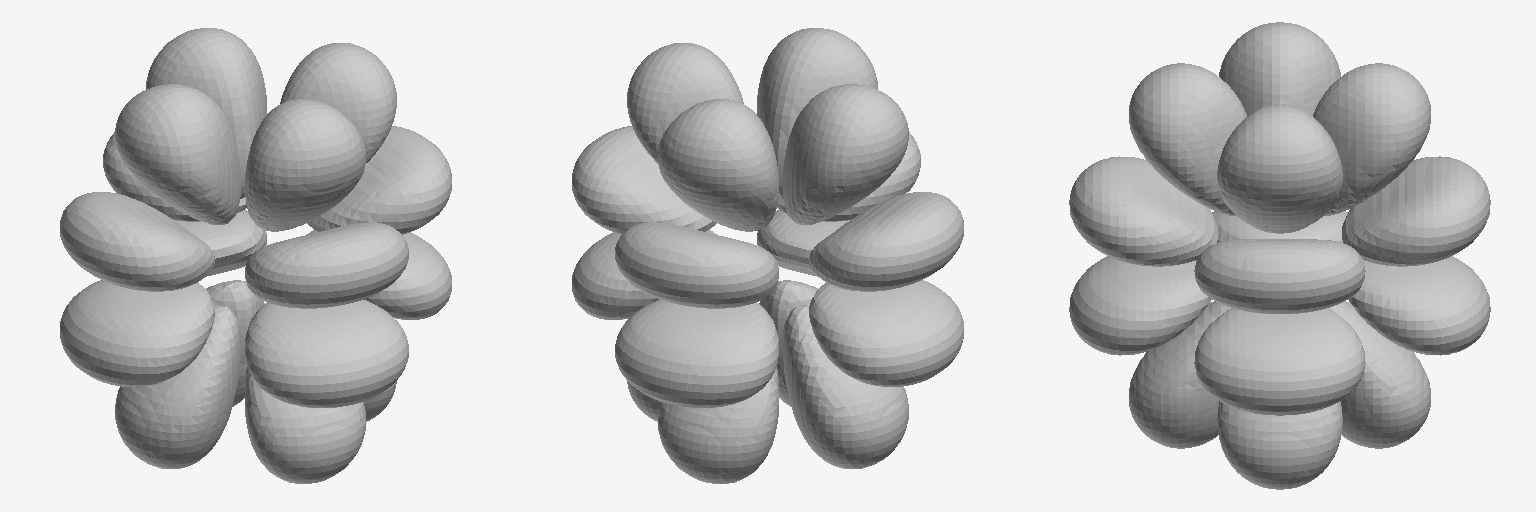
Rendered from orb_n=6_ l=5 _m=2.obj.
3 renders of one model, left to right at view 1: azimuth 30°, elevation 25°; view 2: azimuth 150°, elevation 25°; view 3: azimuth 270°, elevation 25°, orthographic.
Visible parts, largest first — view 1: orb_n=6__l=5__m=2; view 2: orb_n=6__l=5__m=2; view 3: orb_n=6__l=5__m=2.
Boxes of the visible parts, x1=… form: orb_n=6__l=5__m=2: x1=60, y1=28, x2=451, y2=483; orb_n=6__l=5__m=2: x1=572, y1=28, x2=963, y2=483; orb_n=6__l=5__m=2: x1=1069, y1=22, x2=1490, y2=489.
Bounding box in the file's own units: 119 × 117 × 119.